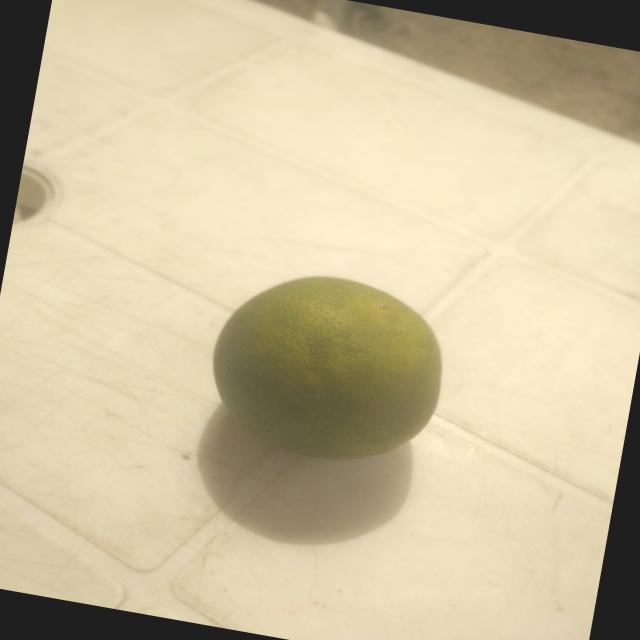agrume: (190, 253, 458, 485)
